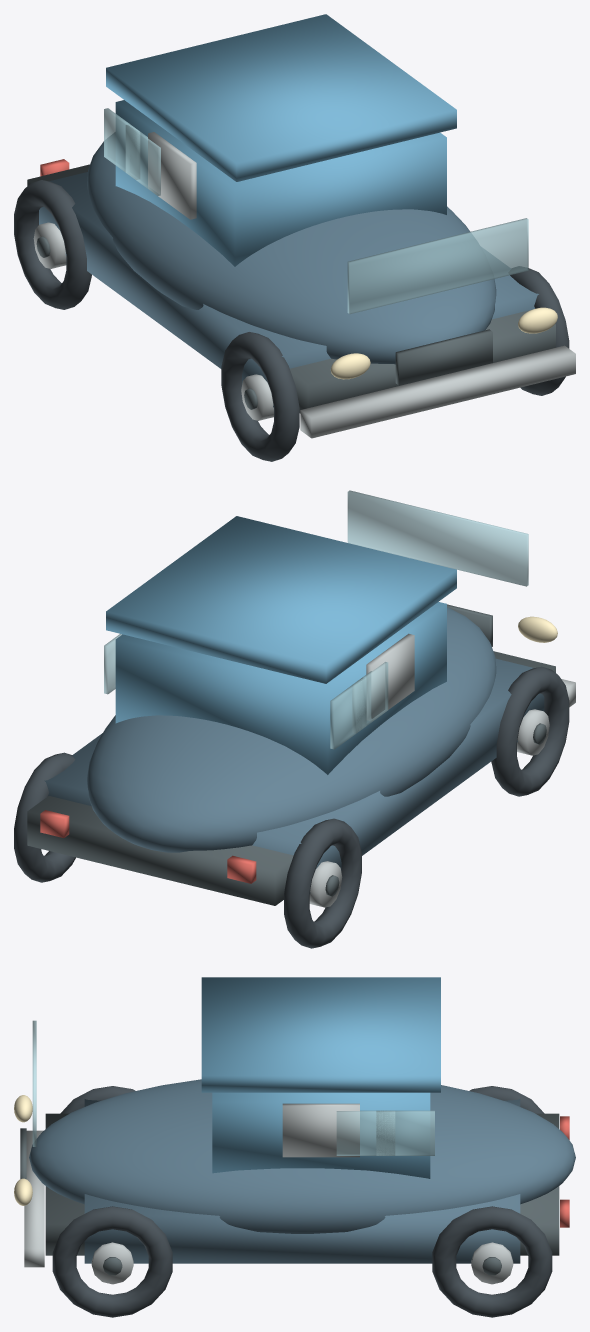
Rendered from quaternius_cc0-suv-1402.glb.
3 renders of one model, top to bottom at view 1: azimuth 30°, elevation 25°; view 2: azimuth 150°, elevation 25°; view 3: azimuth 270°, elevation 25°, orthographic. The views are drawn at different scales.
Parts seen in each view (by area): view 1: suv_mat_05_cabin_frame, suv_mat_01_rounded_body, suv_mat_08_wheel_0, suv_mat_02_front_bumper, suv_mat_07_side_glass_-1_0, suv_mat_00_underbody, suv_mat_03_front_lamp_-0.6290000000000001; view 2: suv_mat_05_cabin_frame, suv_mat_01_rounded_body, suv_mat_08_wheel_0, suv_mat_07_side_glass_-1_0, suv_mat_00_underbody, suv_mat_02_front_bumper, suv_mat_04_tail_lamp_-0.6290000000000001, suv_mat_03_front_lamp_-0.6290000000000001; view 3: suv_mat_01_rounded_body, suv_mat_05_cabin_frame, suv_mat_08_wheel_0, suv_mat_02_front_bumper, suv_mat_07_side_glass_-1_0, suv_mat_00_underbody, suv_mat_03_front_lamp_-0.6290000000000001, suv_mat_04_tail_lamp_-0.6290000000000001.
Boxes of the visible parts, box(x1,y1,x2,y2) form: suv_mat_05_cabin_frame: box(106, 14, 456, 266); suv_mat_01_rounded_body: box(39, 133, 538, 407); suv_mat_08_wheel_0: box(14, 180, 569, 461); suv_mat_02_front_bumper: box(33, 132, 575, 438); suv_mat_07_side_glass_-1_0: box(104, 108, 528, 314); suv_mat_00_underbody: box(27, 164, 555, 413); suv_mat_03_front_lamp_-0.6290000000000001: box(330, 307, 557, 379); suv_mat_05_cabin_frame: box(106, 516, 456, 774); suv_mat_01_rounded_body: box(44, 607, 544, 893); suv_mat_08_wheel_0: box(14, 666, 569, 948); suv_mat_07_side_glass_-1_0: box(104, 490, 528, 749); suv_mat_00_underbody: box(27, 604, 555, 905); suv_mat_02_front_bumper: box(309, 633, 575, 907); suv_mat_04_tail_lamp_-0.6290000000000001: box(40, 810, 256, 883); suv_mat_03_front_lamp_-0.6290000000000001: box(518, 616, 557, 642); suv_mat_01_rounded_body: box(29, 1079, 575, 1263); suv_mat_05_cabin_frame: box(201, 977, 440, 1178); suv_mat_08_wheel_0: box(52, 1086, 552, 1317); suv_mat_02_front_bumper: box(24, 1103, 513, 1284); suv_mat_07_side_glass_-1_0: box(32, 1020, 434, 1155); suv_mat_00_underbody: box(20, 1113, 559, 1275); suv_mat_03_front_lamp_-0.6290000000000001: box(14, 1095, 32, 1205); suv_mat_04_tail_lamp_-0.6290000000000001: box(560, 1116, 569, 1227).
Size of the model in its own units: 1.97 by 1.62 by 3.57.
